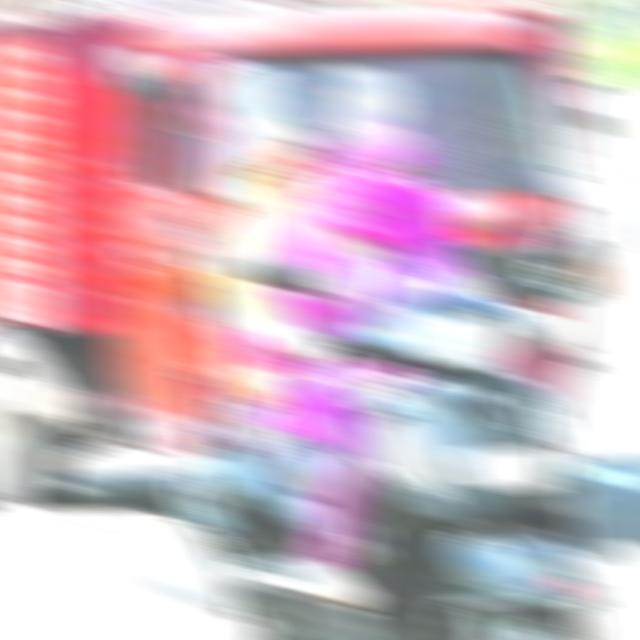Without Helmet: (302, 110, 435, 225)
